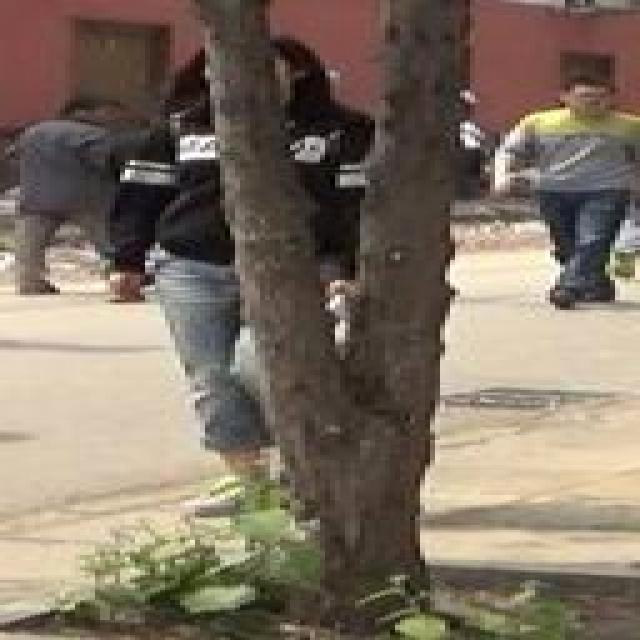adult: (111, 38, 391, 503), (484, 81, 640, 311), (6, 104, 128, 296)
